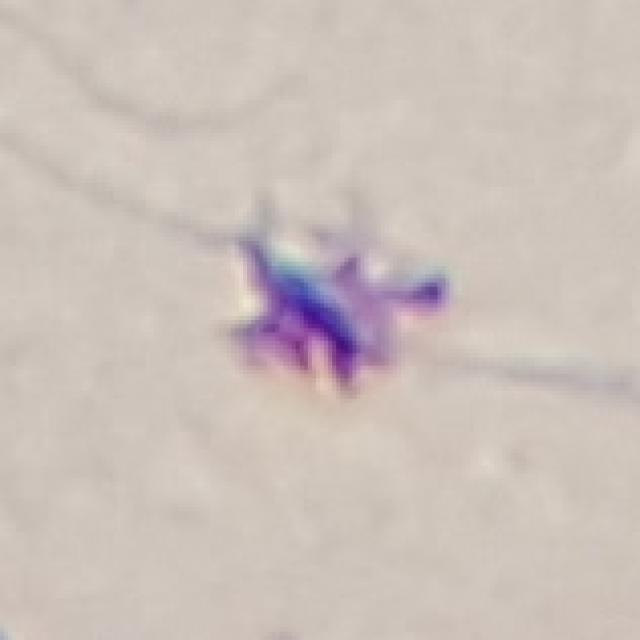non-sperm: (235, 229, 452, 393)
